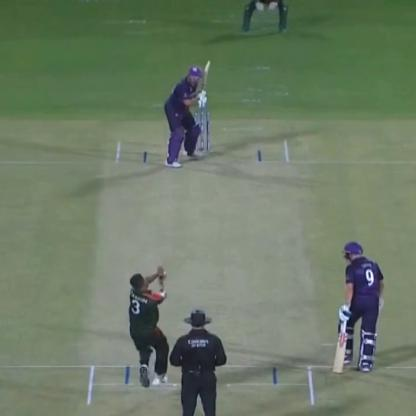ball: (153, 261, 168, 278)
pitch: (81, 132, 326, 415)
